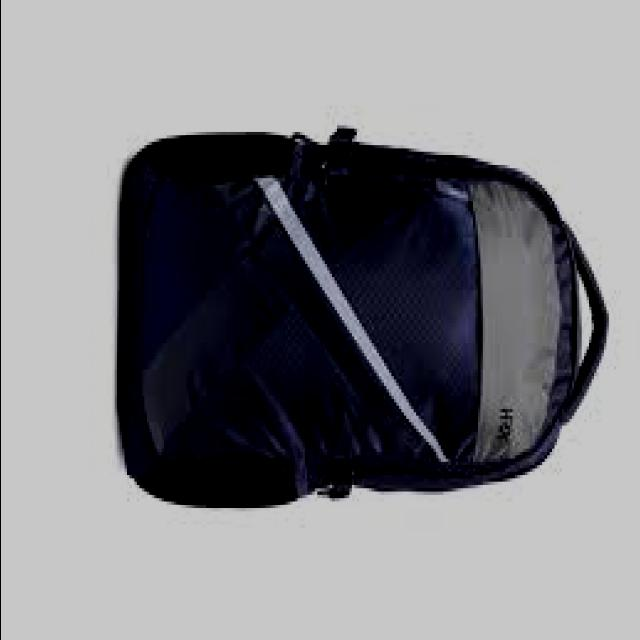backpack: (120, 127, 612, 509)
